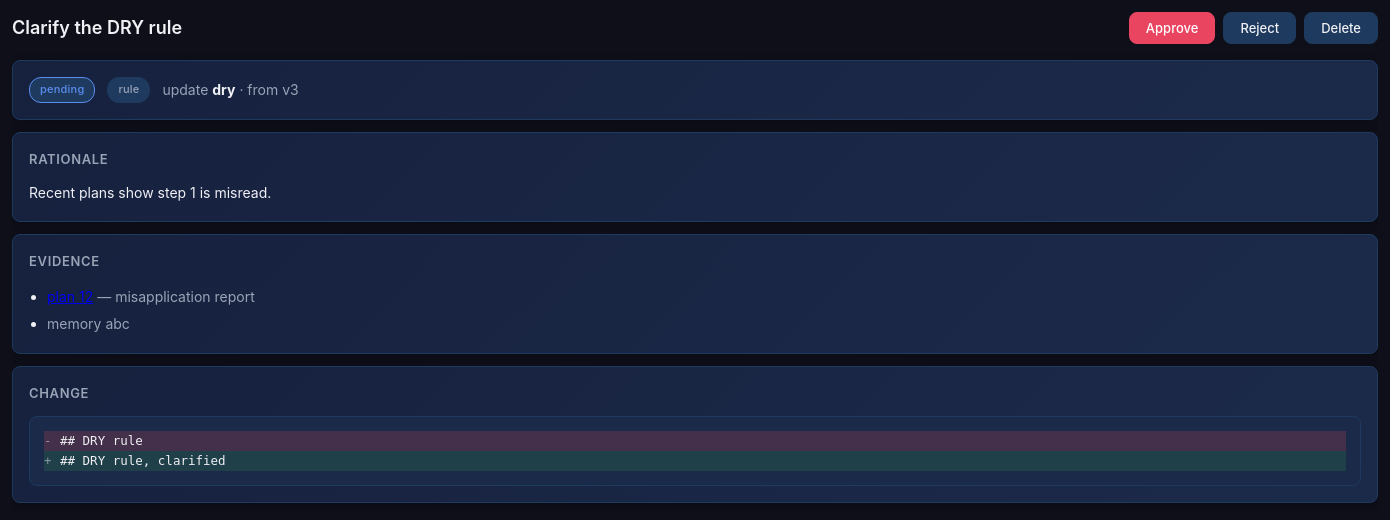
it: ProposalDetailPage › approves and reflects the new status
Step 1. Click the button "Approve" → point(1172, 28), box x1=1129 y1=12 x2=1215 y2=44
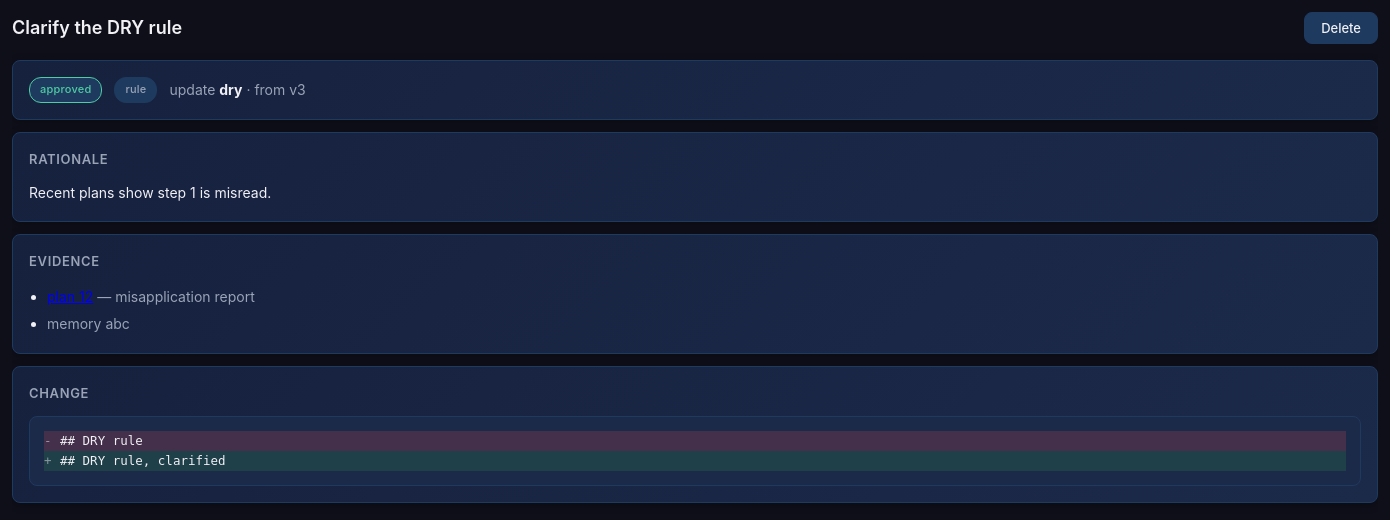
Now the text "approved" is shown, box x1=29 y1=77 x2=102 y2=103
